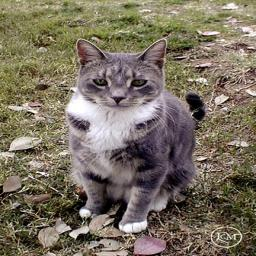catnose: (109, 92, 126, 106)
